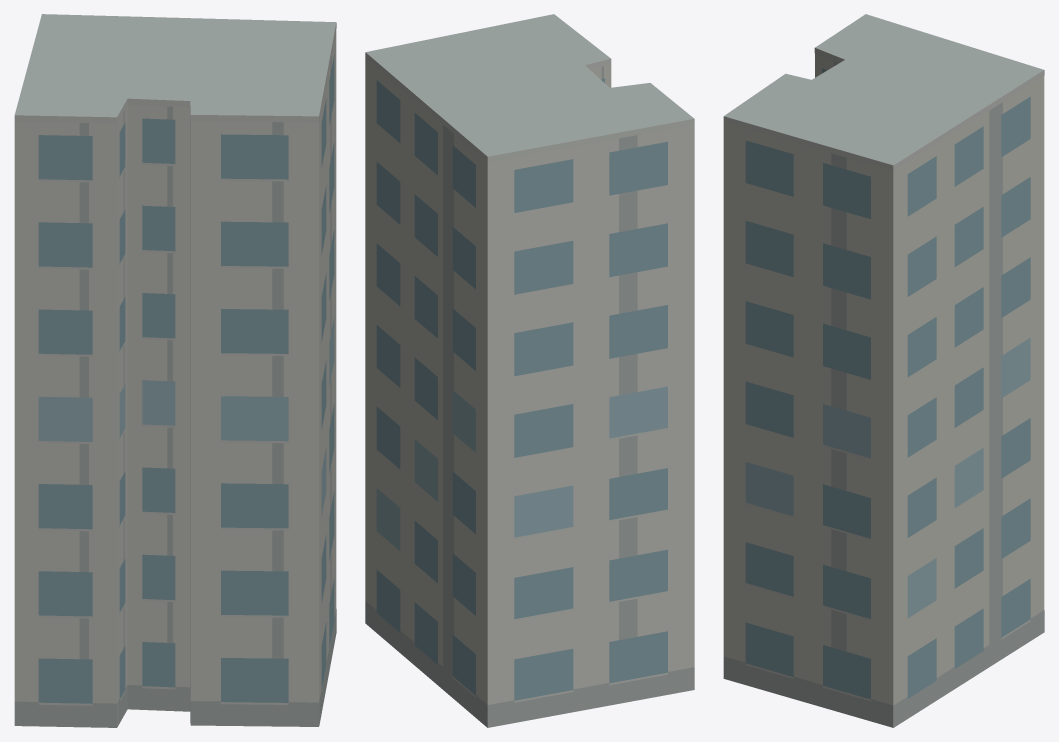
Rendered from survey-upis-32475686.glb.
The picture shows the model from 3 angles, left to right: view 1: azimuth 30°, elevation 25°; view 2: azimuth 150°, elevation 25°; view 3: azimuth 270°, elevation 25°; orthographic projection. The views are drawn at different scales.
Parts seen in each view (by area): view 1: survey-upis-32475686.tmp; view 2: survey-upis-32475686.tmp; view 3: survey-upis-32475686.tmp.
Boxes of the visible parts, box(x1,y1,x2,y2) form: survey-upis-32475686.tmp: box(14, 14, 336, 727); survey-upis-32475686.tmp: box(365, 14, 694, 727); survey-upis-32475686.tmp: box(723, 14, 1044, 727).
Bounding box in the file's own units: 13.63 × 23.6 × 12.21.
